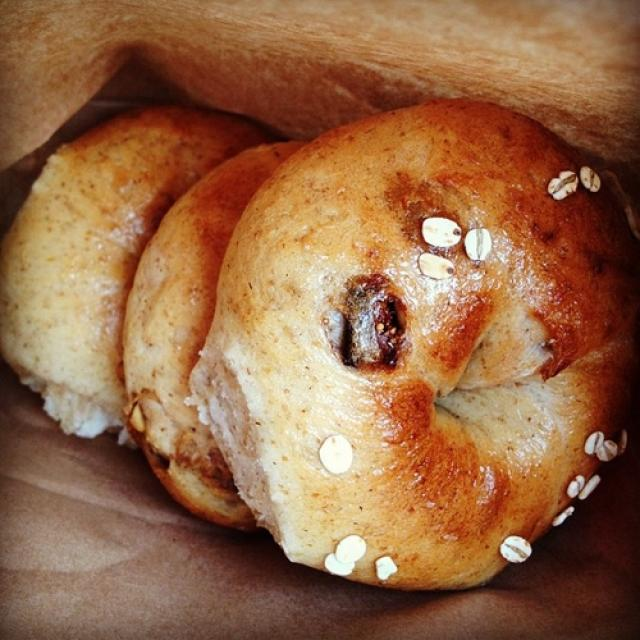面包点心: (12, 8, 627, 626)
